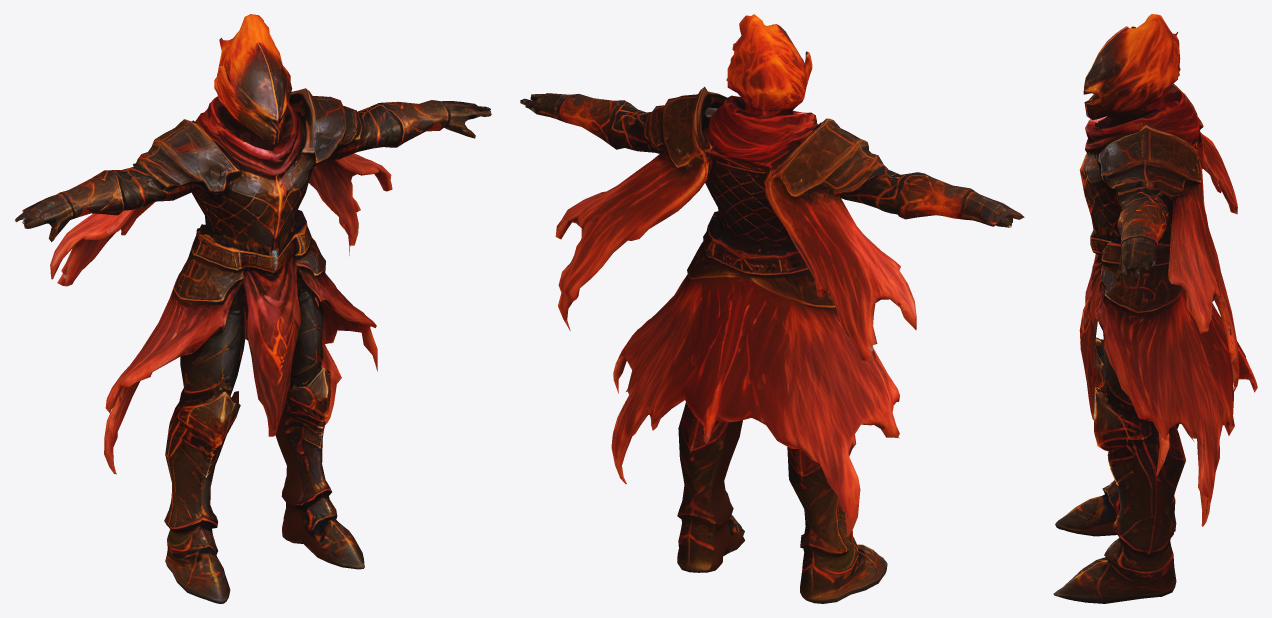
File: base_basic_shaded.glb
3 views of the same model, side by side, from view 1: azimuth 30°, elevation 25°; view 2: azimuth 150°, elevation 25°; view 3: azimuth 270°, elevation 25° (orthographic). The views are drawn at different scales.
Visible parts, largest first — view 1: model; view 2: model; view 3: model.
Boxes of the visible parts, left/top/right/bottom form: model: left=14, top=14, right=491, bottom=603; model: left=520, top=14, right=1024, bottom=603; model: left=1053, top=14, right=1257, bottom=603.
Bounding box in the file's own units: 1.65 × 1.8 × 0.6027.
1 material, 1 textured.
